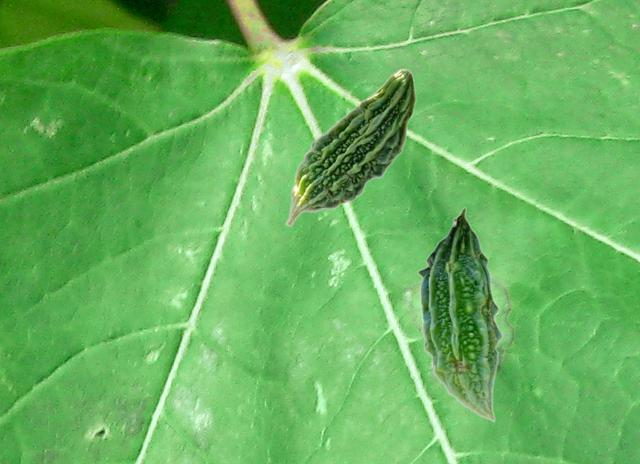ampalaya: (284, 68, 418, 227), (416, 206, 504, 423)
